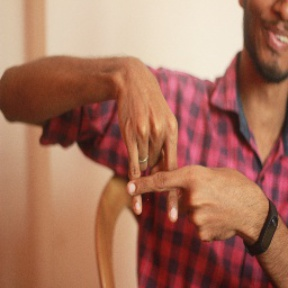H: (113, 125, 215, 231)
